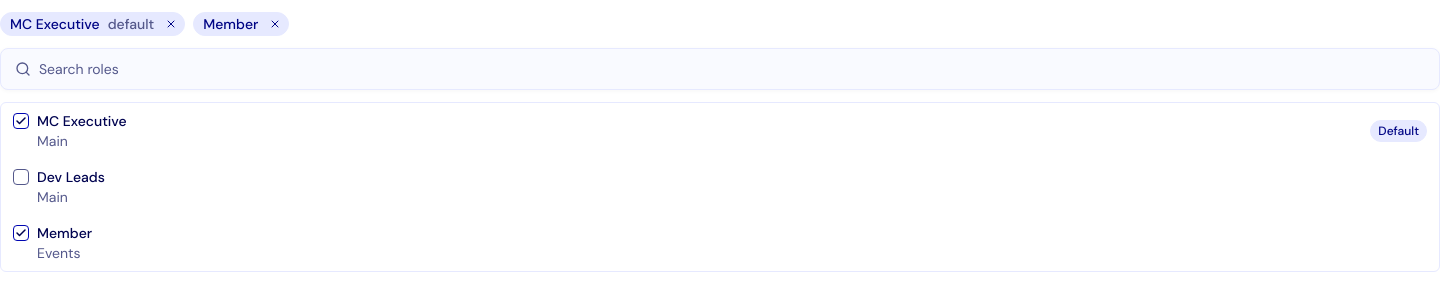
Scenario: RolePicker › lets the default role be removed like any other
Step 1. Click the 1st button named "Remove MC Executive" → (171, 24), box [162,15,180,33]
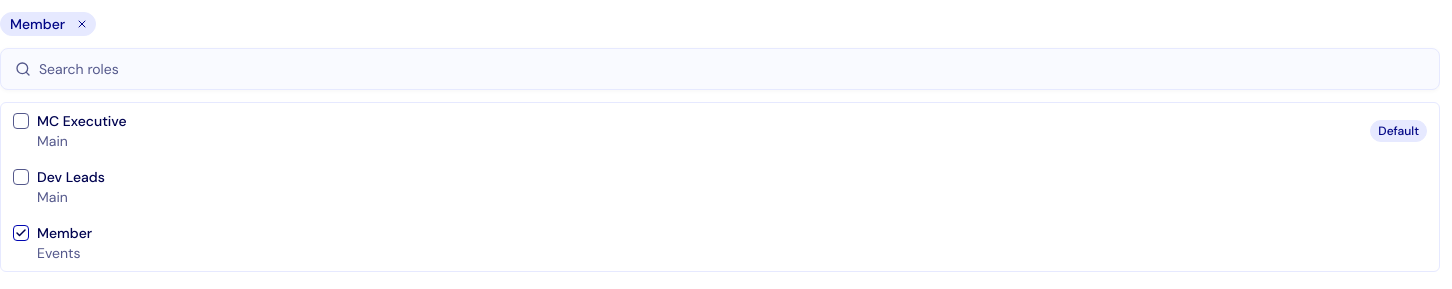
Expected: the list named "Selected roles" does not show "MC Executive", [0,12,96,36]
Result: the checkbox named "MC Executive" next to "MC Executive" is not checked at [13,113,29,129]
